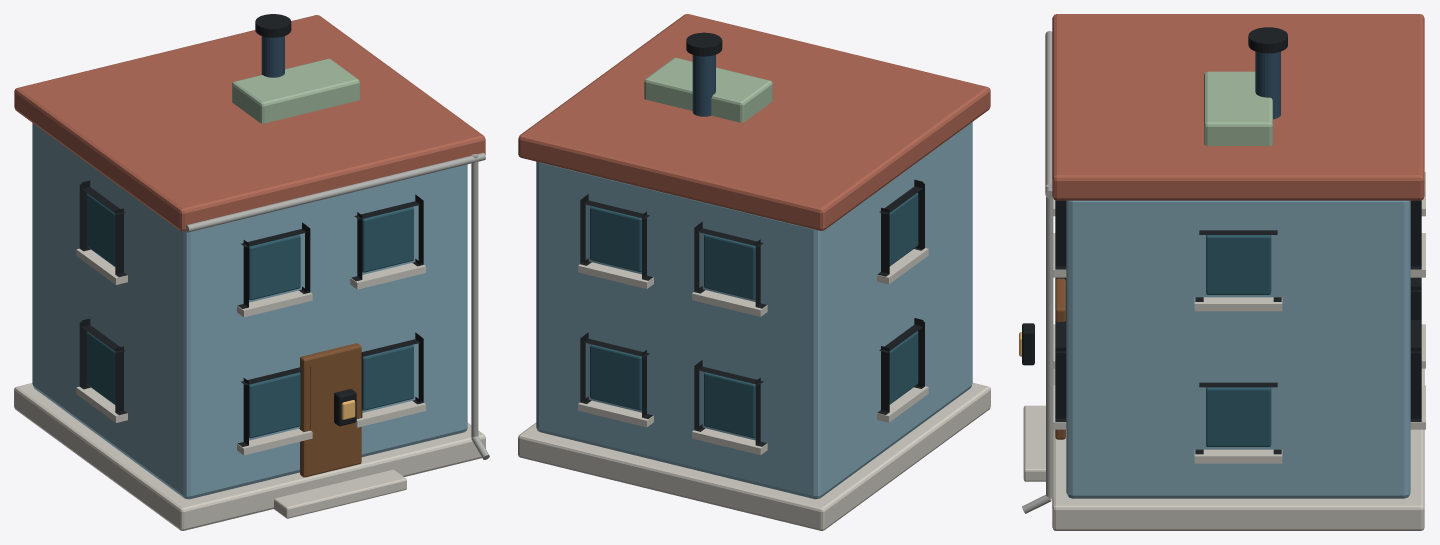
Rendered from RES_LOW_1x1_004.glb.
3 views of the same model, side by side, from view 1: azimuth 30°, elevation 25°; view 2: azimuth 150°, elevation 25°; view 3: azimuth 270°, elevation 25° (orthographic). The views are drawn at different scales.
Visible parts, largest first — view 1: RES_LOW_1x1_004_Visual; view 2: RES_LOW_1x1_004_Visual; view 3: RES_LOW_1x1_004_Visual.
Boxes of the visible parts, x1=… form: RES_LOW_1x1_004_Visual: x1=14, y1=14, x2=489, y2=530; RES_LOW_1x1_004_Visual: x1=518, y1=14, x2=990, y2=530; RES_LOW_1x1_004_Visual: x1=1019, y1=14, x2=1425, y2=530.
Size of what is drawn, in the model's own units: 1.68 by 2.05 by 1.74.
